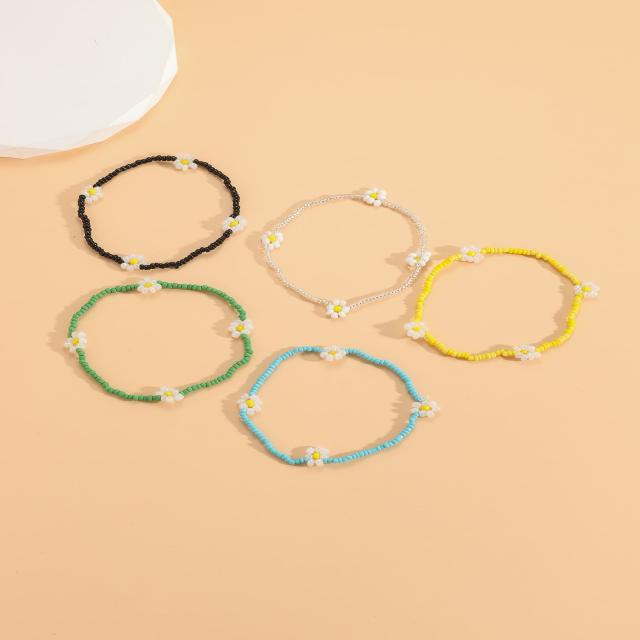bracelet: (228, 115, 455, 326), (379, 217, 618, 396), (38, 96, 254, 277), (31, 269, 262, 422), (228, 340, 447, 475)
